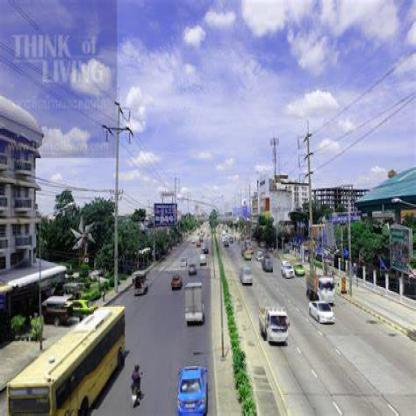bus: (12, 308, 127, 412)
car: (181, 364, 212, 416), (309, 297, 335, 325), (74, 301, 96, 317), (240, 269, 254, 286), (262, 259, 275, 275), (284, 265, 293, 282), (243, 251, 253, 263), (191, 268, 200, 280), (178, 258, 188, 268), (173, 278, 181, 290), (296, 266, 305, 276), (200, 255, 208, 266), (258, 253, 264, 261), (204, 246, 209, 254)
motorbike: (128, 366, 142, 408)
truck: (260, 303, 290, 344), (305, 276, 335, 305), (186, 287, 206, 324)
